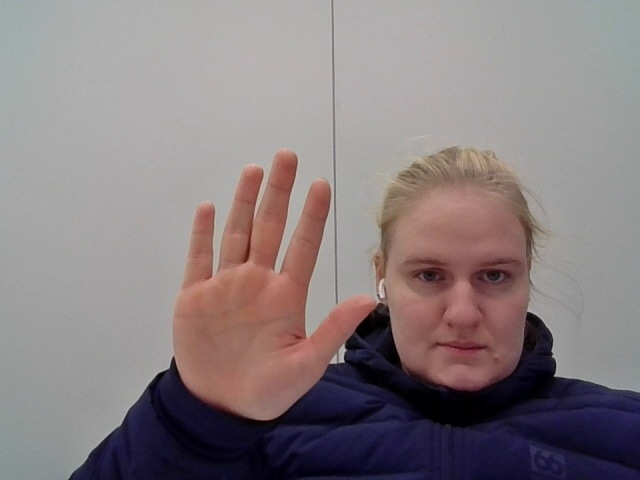nada: (151, 138, 386, 426)
